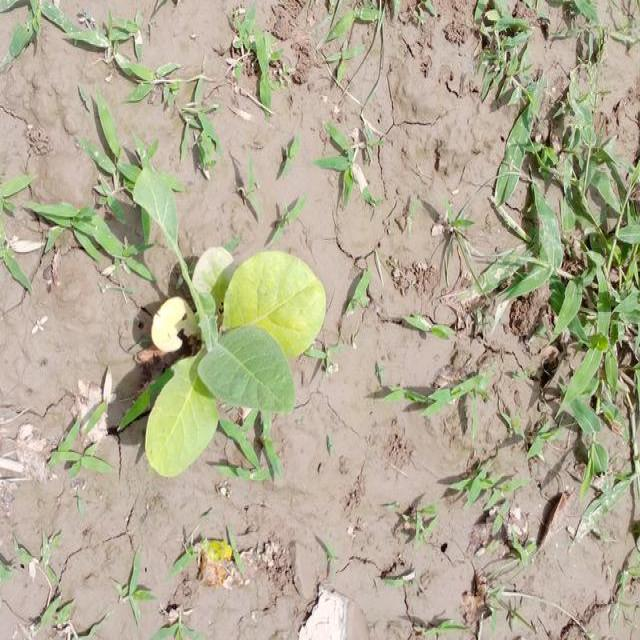crop: (145, 237, 325, 478)
